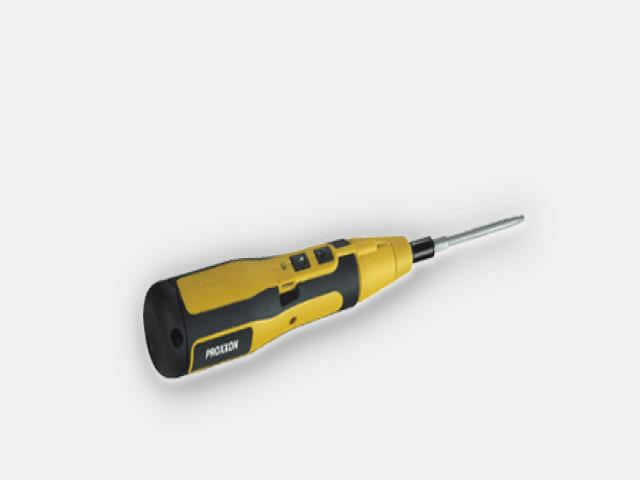Screwdriver: (144, 217, 524, 376)
